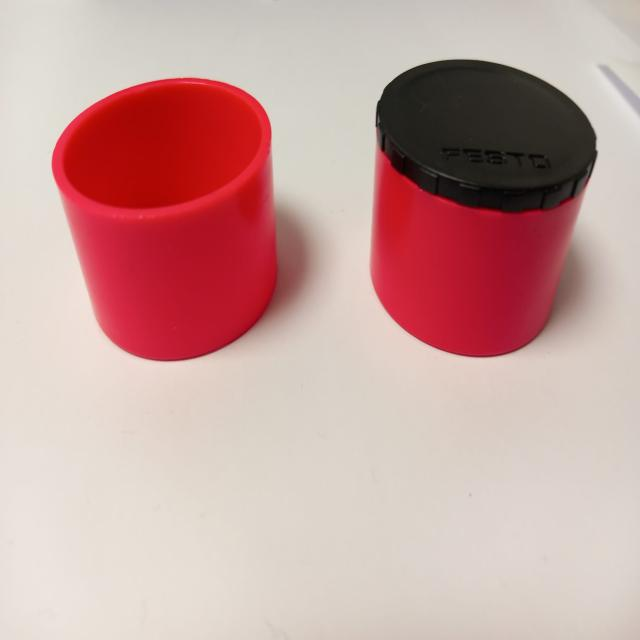NoLid: (44, 63, 305, 368)
Workpiece: (359, 45, 597, 364)
